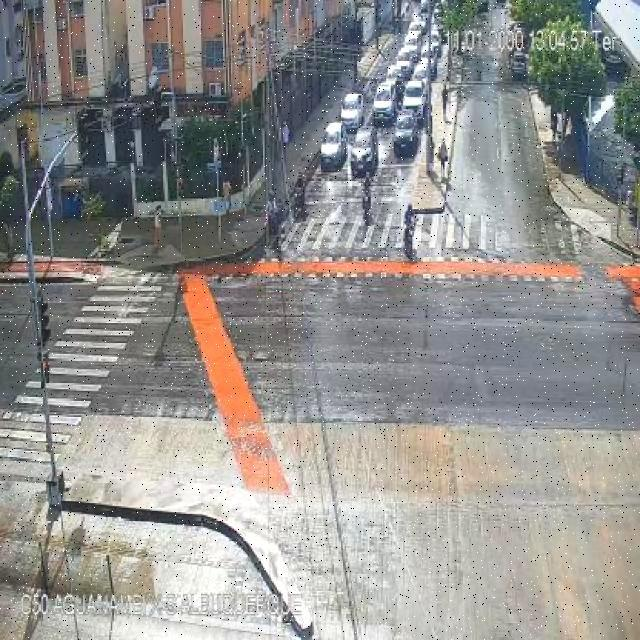Car: (318, 119, 349, 169), (350, 128, 378, 176), (392, 112, 420, 156), (0, 78, 28, 116), (372, 84, 396, 124), (340, 93, 364, 132), (402, 79, 426, 114), (412, 57, 431, 84), (510, 52, 528, 80), (397, 44, 417, 69), (423, 34, 441, 61), (393, 56, 413, 80), (403, 29, 421, 52), (406, 20, 424, 42), (429, 25, 440, 48)
